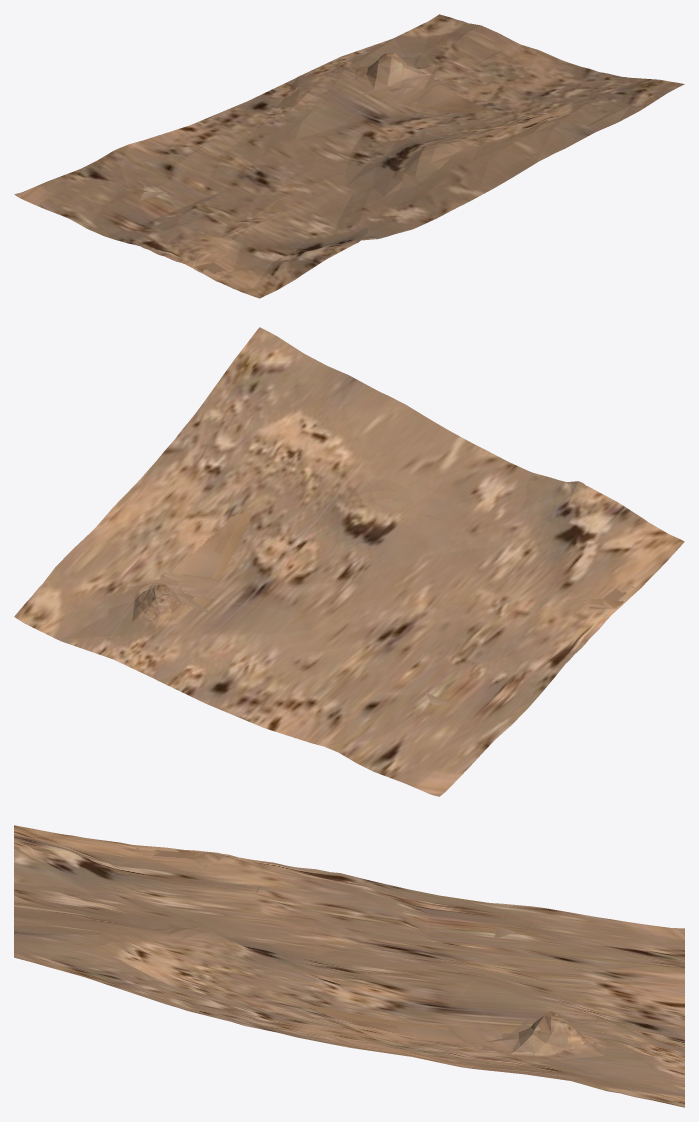
3 renders of one model, top to bottom at view 1: azimuth 30°, elevation 25°; view 2: azimuth 150°, elevation 25°; view 3: azimuth 270°, elevation 25°, orthographic. The views are drawn at different scales.
Bounding box in the file's own units: 1.04 × 0.4368 × 1.04.
Materials: 3 (3 with a texture image).
